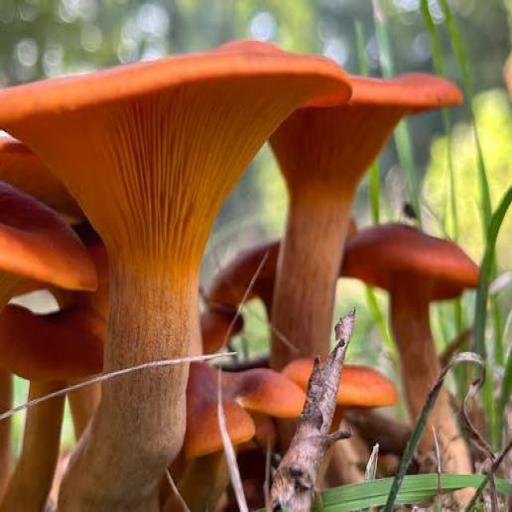Jack O Lantern Mushroom: (0, 33, 356, 512), (212, 38, 462, 365), (335, 210, 495, 502), (0, 296, 106, 509), (182, 355, 309, 476), (0, 178, 94, 323), (283, 346, 388, 423), (207, 234, 281, 321)
